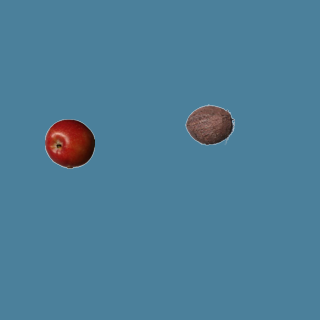Apple Braeburn: (44, 118, 94, 168)
Cocos: (184, 99, 234, 149)
